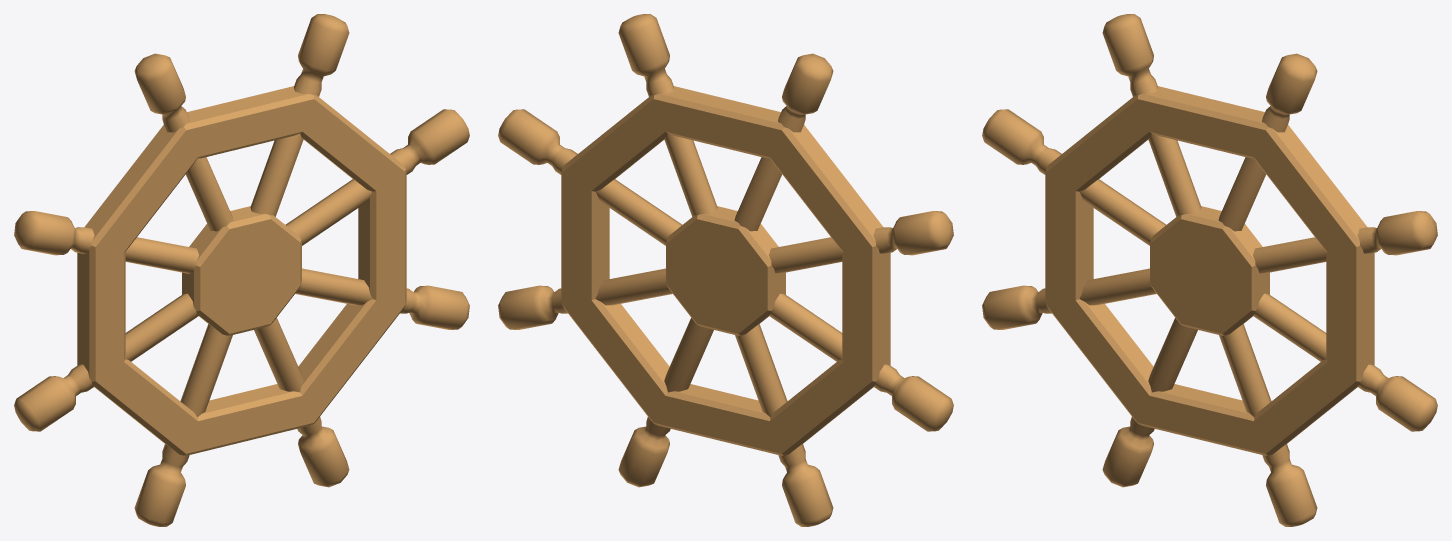
File: Helm.fbx
The picture shows the model from 3 angles, left to right: view 1: azimuth 30°, elevation 25°; view 2: azimuth 150°, elevation 25°; view 3: azimuth 330°, elevation 25°; orthographic projection.
Parts seen in each view (by area): view 1: Helm; view 2: Helm; view 3: Helm.
Boxes of the visible parts, x1,y1,x2,y2 form: Helm: (14, 14, 469, 526); Helm: (498, 14, 953, 526); Helm: (982, 14, 1437, 526).
Bounding box in the file's own units: 1.58 × 1.58 × 0.1264.
